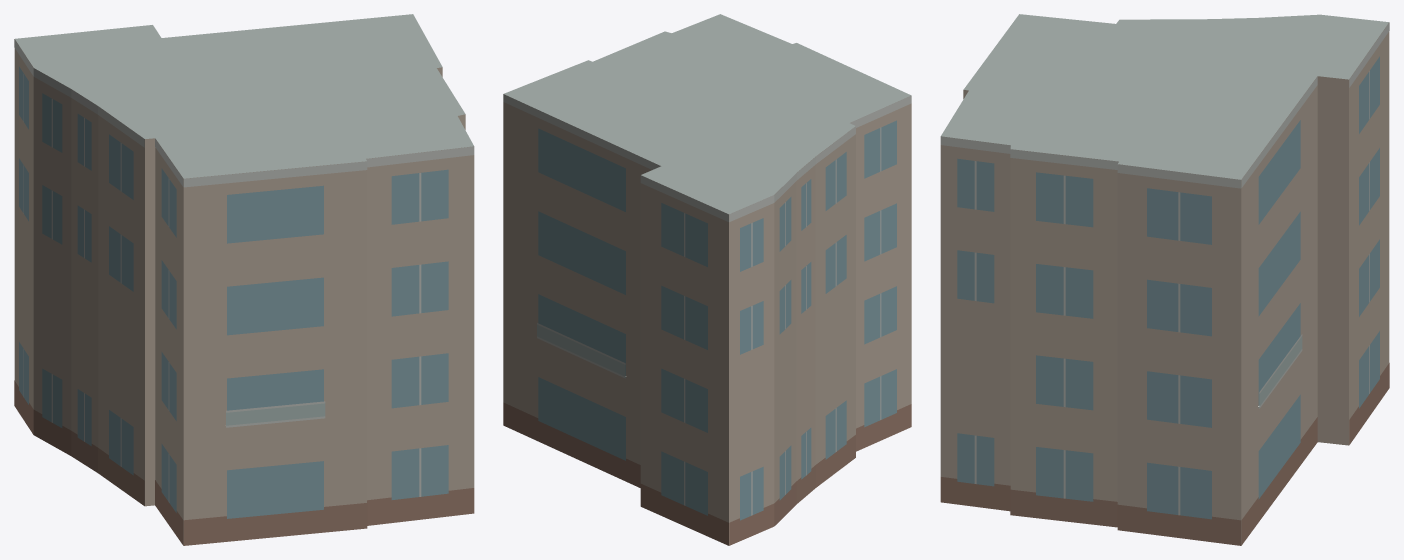
Rendered from survey-upis-32829267.glb.
3 renders of one model, left to right at view 1: azimuth 30°, elevation 25°; view 2: azimuth 150°, elevation 25°; view 3: azimuth 270°, elevation 25°, orthographic. The views are drawn at different scales.
Parts seen in each view (by area): view 1: survey-upis-32829267.tmp; view 2: survey-upis-32829267.tmp; view 3: survey-upis-32829267.tmp.
Part boxes in pixels (x1,y1,x2,y2): survey-upis-32829267.tmp: [14, 14, 474, 545]; survey-upis-32829267.tmp: [503, 14, 911, 545]; survey-upis-32829267.tmp: [940, 14, 1389, 545].
Bounding box in the file's own units: 9.92 × 10.2 × 11.34.
